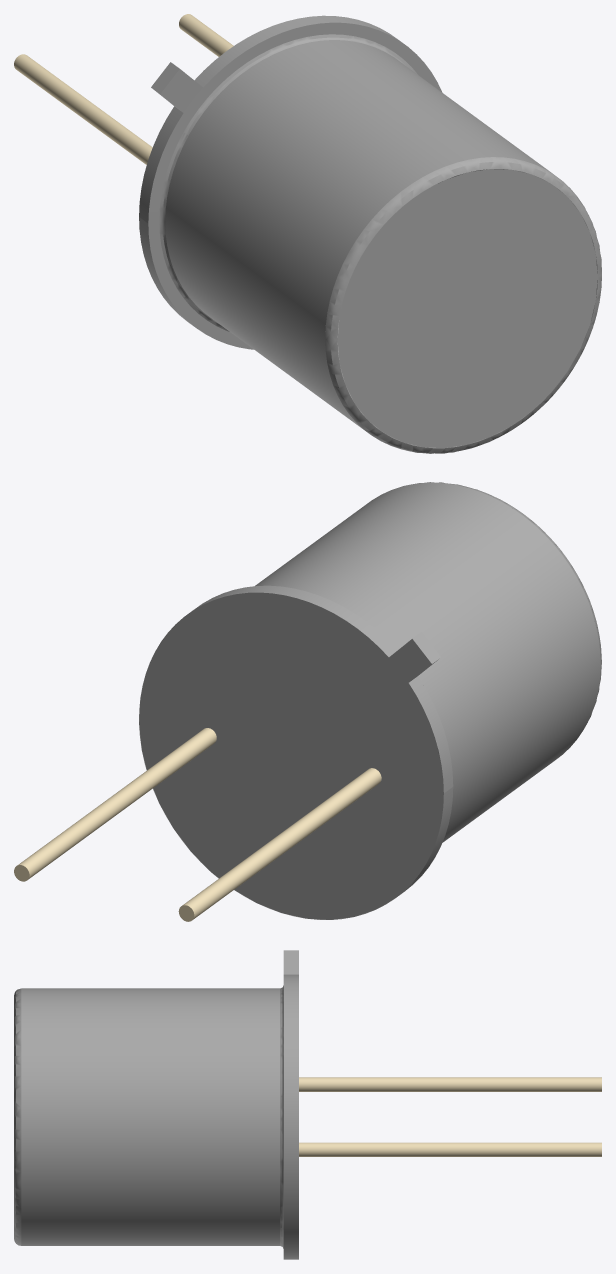
The picture shows the model from 3 angles, top to bottom: view 1: azimuth 30°, elevation 25°; view 2: azimuth 150°, elevation 25°; view 3: azimuth 270°, elevation 25°; orthographic projection. The views are drawn at different scales.
Parts seen in each view (by area): view 1: Shape_IndexedFaceSet.013, Shape_IndexedFaceSet.017, Shape_IndexedFaceSet.016, Shape_IndexedFaceSet.008, Shape_IndexedFaceSet.010, Shape_IndexedFaceSet.012, Shape_IndexedFaceSet.006, Shape_IndexedFaceSet.005, Shape_IndexedFaceSet.011, Shape_IndexedFaceSet.004; view 2: Shape_IndexedFaceSet.009, Shape_IndexedFaceSet.013, Shape_IndexedFaceSet.007, Shape_IndexedFaceSet.012, Shape_IndexedFaceSet.011, Shape_IndexedFaceSet.006, Shape_IndexedFaceSet.005, Shape_IndexedFaceSet.003, Shape_IndexedFaceSet.016; view 3: Shape_IndexedFaceSet.013, Shape_IndexedFaceSet.006, Shape_IndexedFaceSet.011, Shape_IndexedFaceSet.012, Shape_IndexedFaceSet.016, Shape_IndexedFaceSet.010.
Boxes of the visible parts, <box> form: Shape_IndexedFaceSet.013: <box>165,40,597,448</box>; Shape_IndexedFaceSet.017: <box>337,169,597,447</box>; Shape_IndexedFaceSet.016: <box>325,157,601,453</box>; Shape_IndexedFaceSet.008: <box>148,22,442,349</box>; Shape_IndexedFaceSet.010: <box>159,34,417,331</box>; Shape_IndexedFaceSet.012: <box>14,54,152,164</box>; Shape_IndexedFaceSet.006: <box>139,15,399,326</box>; Shape_IndexedFaceSet.005: <box>139,106,183,223</box>; Shape_IndexedFaceSet.011: <box>179,14,233,56</box>; Shape_IndexedFaceSet.004: <box>160,69,202,112</box>; Shape_IndexedFaceSet.009: <box>139,593,443,919</box>; Shape_IndexedFaceSet.013: <box>255,482,600,842</box>; Shape_IndexedFaceSet.007: <box>281,657,408,768</box>; Shape_IndexedFaceSet.012: <box>182,768,381,919</box>; Shape_IndexedFaceSet.011: <box>18,728,216,880</box>; Shape_IndexedFaceSet.006: <box>139,585,453,919</box>; Shape_IndexedFaceSet.005: <box>409,676,453,792</box>; Shape_IndexedFaceSet.003: <box>389,639,431,682</box>; Shape_IndexedFaceSet.016: <box>403,482,601,724</box>; Shape_IndexedFaceSet.013: <box>21,988,279,1245</box>; Shape_IndexedFaceSet.006: <box>283,974,298,1259</box>; Shape_IndexedFaceSet.011: <box>299,1142,601,1156</box>; Shape_IndexedFaceSet.012: <box>299,1077,601,1091</box>; Shape_IndexedFaceSet.016: <box>14,988,21,1245</box>; Shape_IndexedFaceSet.010: <box>280,985,283,1248</box>.
Size of the model in its own units: 3.7 by 3.7 by 7.64.
